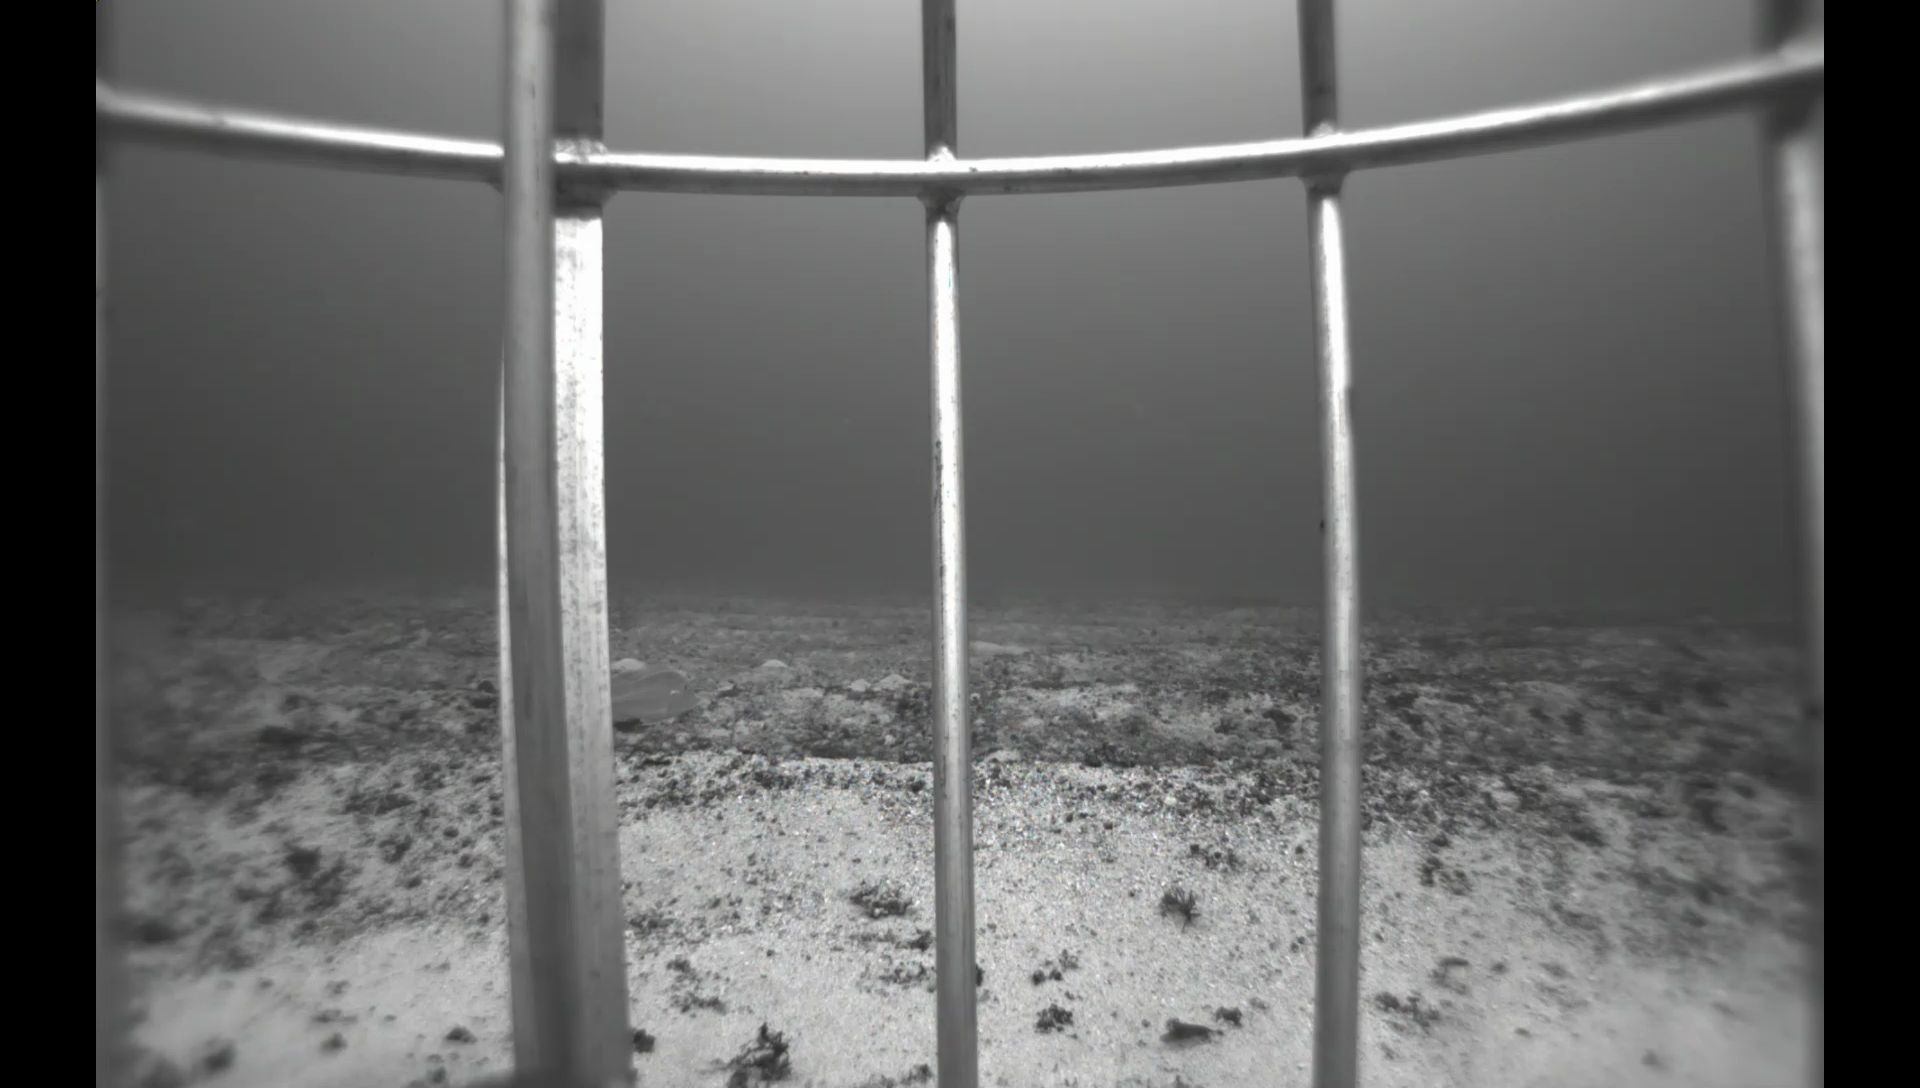CALAMUSPRORIDENS-170210605: (611, 659, 713, 746), (108, 609, 186, 663)
